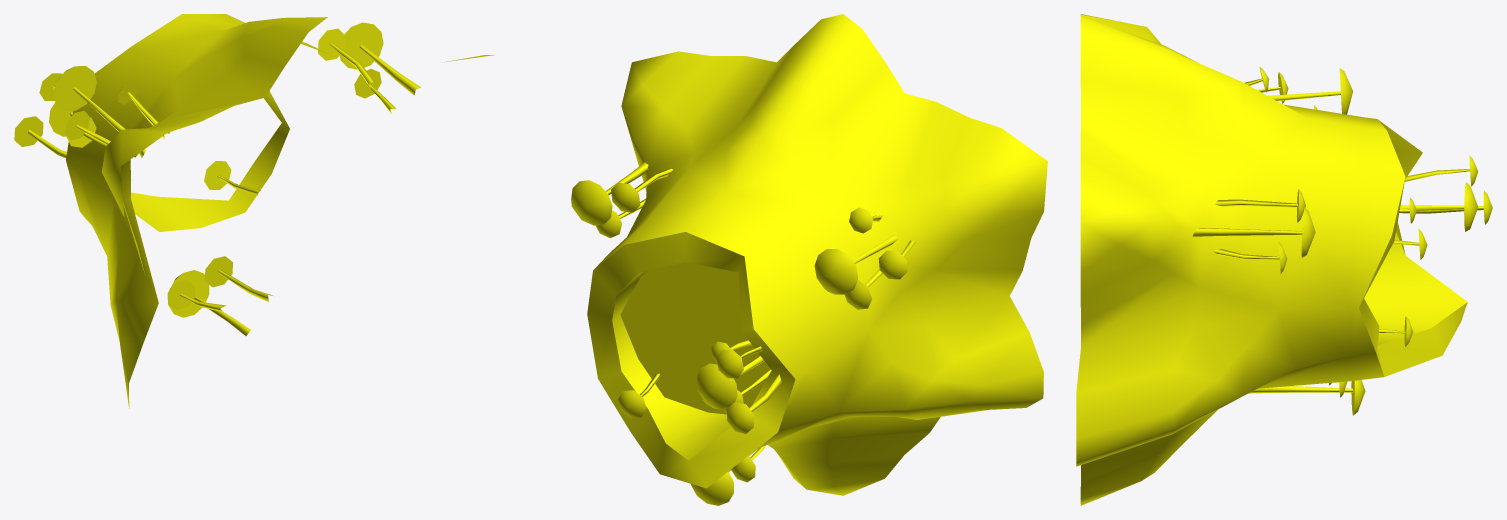
The model's file is tree_stump.glb.
3 views of the same model, side by side, from view 1: azimuth 30°, elevation 25°; view 2: azimuth 150°, elevation 25°; view 3: azimuth 270°, elevation 25° (orthographic).
Parts seen in each view (by area): view 1: Deciduous_tree_stump_LOD0; view 2: Deciduous_tree_stump_LOD0; view 3: Deciduous_tree_stump_LOD0.
Part boxes in pixels (x1,y1,x2,y2): Deciduous_tree_stump_LOD0: [14, 14, 494, 408]; Deciduous_tree_stump_LOD0: [571, 14, 1047, 505]; Deciduous_tree_stump_LOD0: [1076, 14, 1492, 505].
Size of what is drawn, in the model's own units: 1.72 by 1.9 by 1.47.
1 material, 1 textured.
